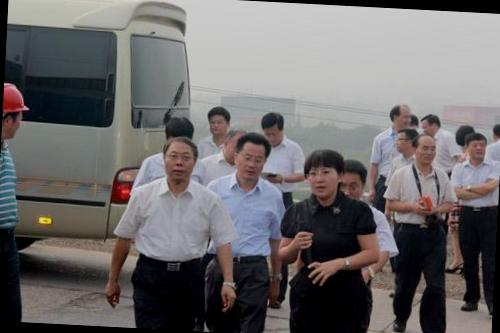no_helmet: (304, 143, 348, 201), (231, 130, 276, 181), (160, 132, 202, 184), (337, 160, 368, 204), (160, 113, 196, 148), (205, 102, 236, 139), (258, 108, 289, 144), (392, 120, 420, 156), (462, 130, 488, 164), (414, 132, 438, 168), (221, 126, 246, 160), (388, 102, 413, 132), (419, 110, 443, 138), (454, 122, 474, 150), (489, 116, 500, 147)
